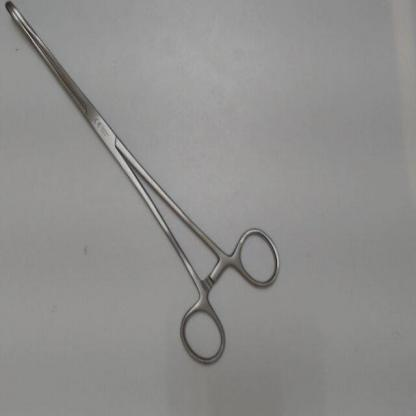Sponge Forceps: (4, 1, 287, 374)
